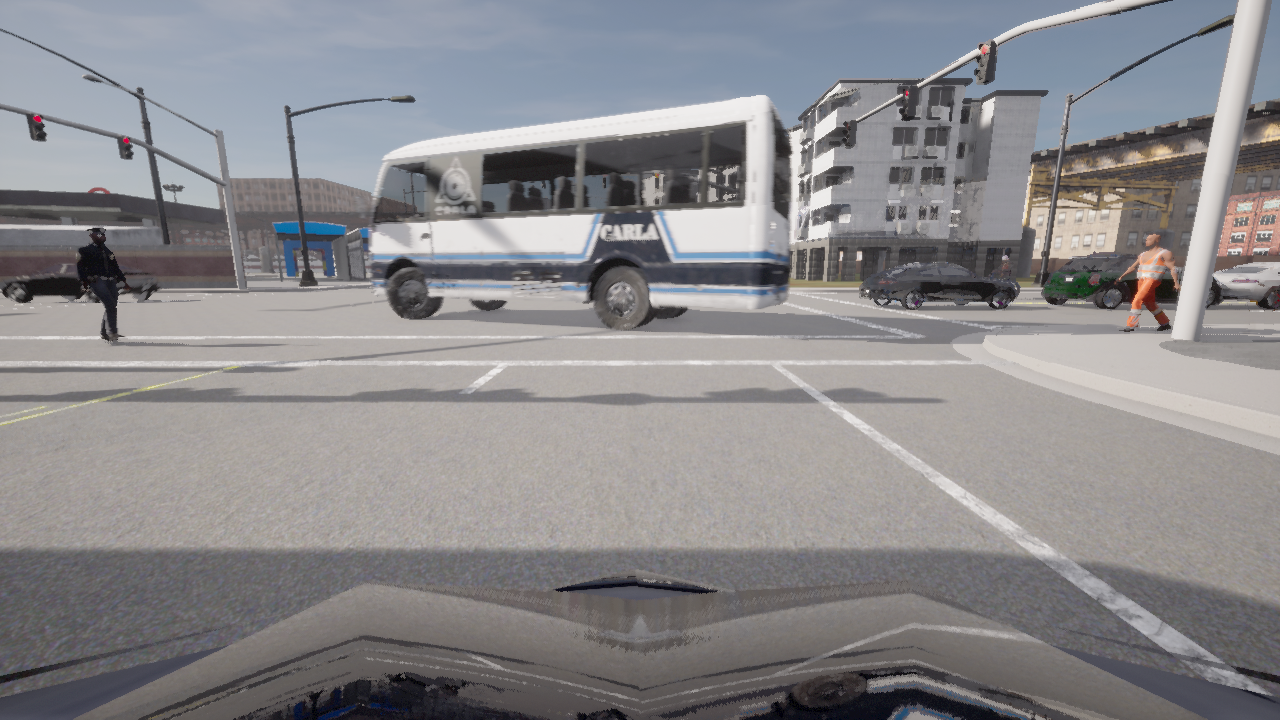cyclist: (0, 569, 1279, 719), (354, 96, 792, 330), (1042, 252, 1221, 309), (859, 262, 1016, 309), (2, 262, 161, 303), (1213, 262, 1279, 309), (988, 275, 1019, 295), (1088, 253, 1138, 255)
pedestrian: (1114, 233, 1180, 331), (74, 227, 130, 341)
